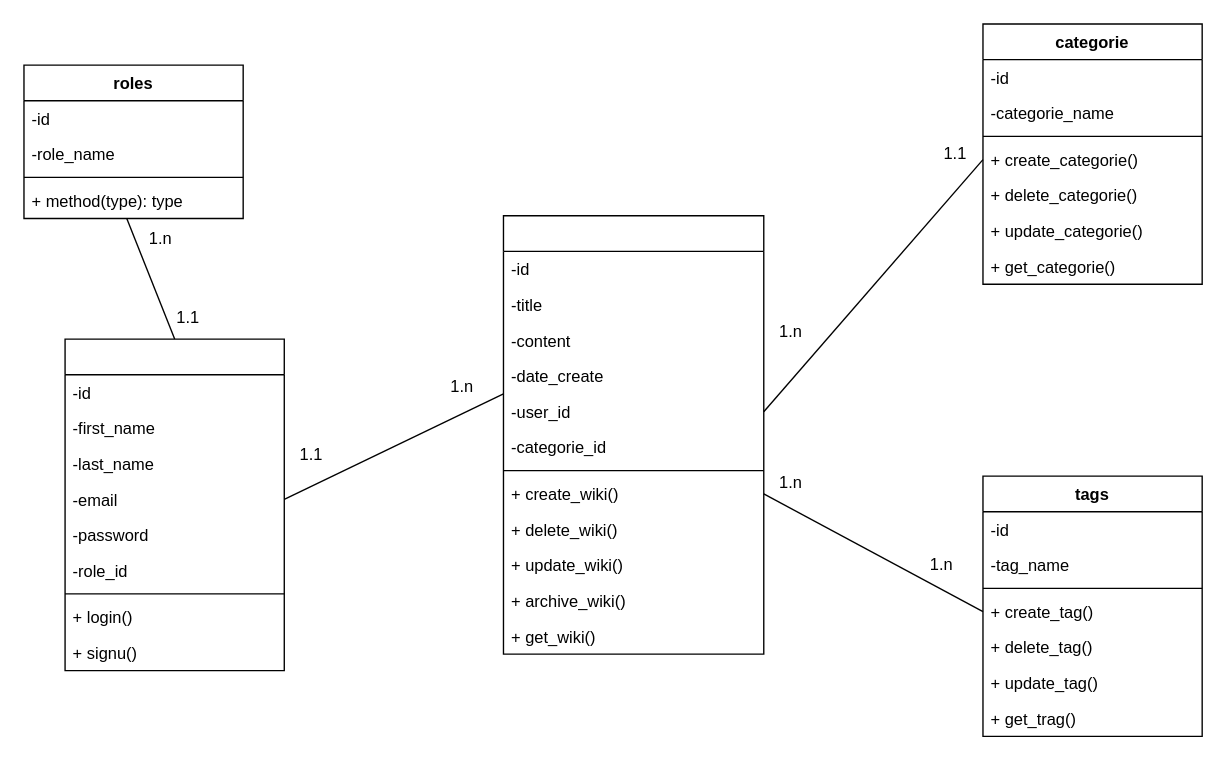
Image size: 1226x764. Some labels were removed from this diagram. The box of each missing label's shape, as (x1, y1, x2, y2) in pixels:
users: (64, 338, 284, 671)
wikis: (502, 214, 764, 654)
